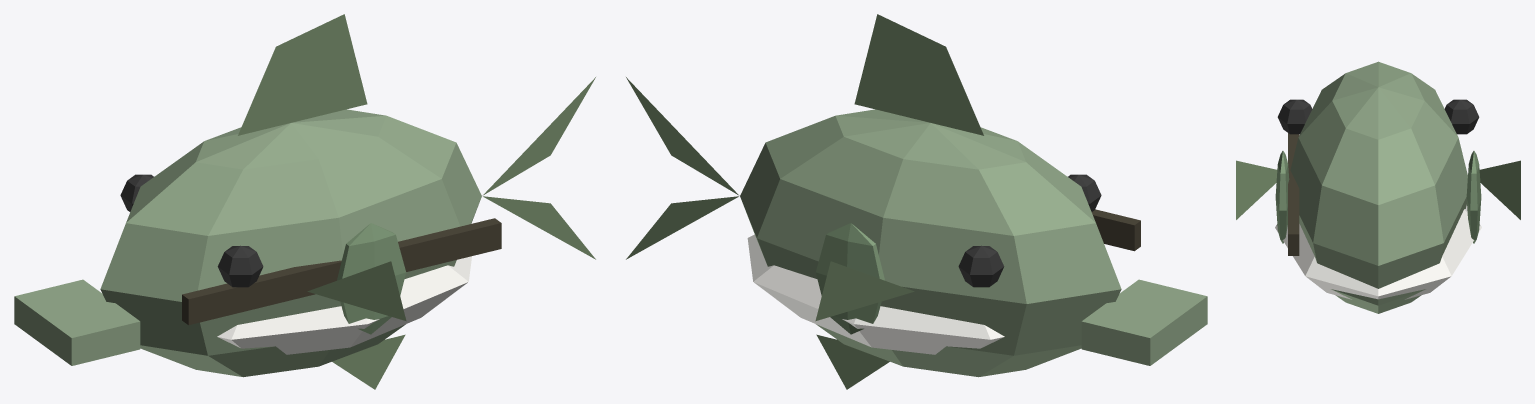
File: fish-bass.glb
3 views of the same model, side by side, from view 1: azimuth 30°, elevation 25°; view 2: azimuth 150°, elevation 25°; view 3: azimuth 270°, elevation 25° (orthographic). The views are drawn at different scales.
Visible parts, largest first — view 1: Bass; view 2: Bass; view 3: Bass.
Part boxes in pixels (bbox=[...]): Bass: bbox=[14, 14, 595, 389]; Bass: bbox=[626, 14, 1207, 389]; Bass: bbox=[1236, 61, 1520, 313].
Bounding box in the file's own units: 1.45 × 0.96 × 0.7699.
